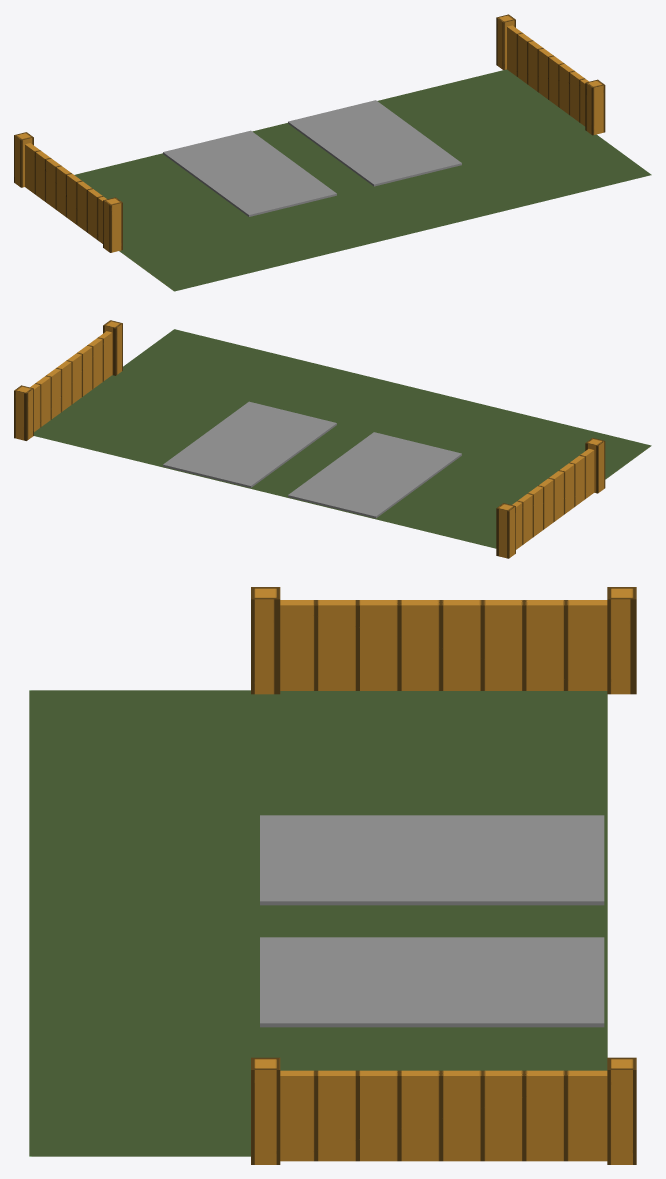
File: Frontyard.005.fbx
The picture shows the model from 3 angles, top to bottom: view 1: azimuth 30°, elevation 25°; view 2: azimuth 150°, elevation 25°; view 3: azimuth 270°, elevation 25°; orthographic projection. The views are drawn at different scales.
Visible parts, largest first — view 1: Plane.018, Plane.019, Cube.095; view 2: Plane.018, Plane.019, Cube.095; view 3: Plane.018, Cube.095, Plane.019.
Boxes of the visible parts, <box> form: Plane.018: <box>74,69,651,291</box>; Plane.019: <box>163,100,461,216</box>; Cube.095: <box>14,14,605,252</box>; Plane.018: <box>34,329,651,548</box>; Plane.019: <box>163,401,461,518</box>; Cube.095: <box>14,320,605,558</box>; Plane.018: <box>29,690,607,1156</box>; Cube.095: <box>251,587,636,1164</box>; Plane.019: <box>260,815,604,1027</box>.
Size of the model in its own units: 8.71 by 0.7981 by 4.63.
